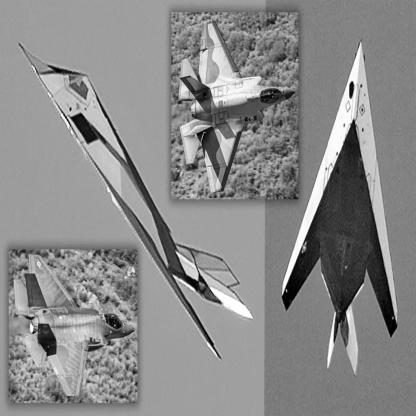F117: (19, 44, 254, 363), (282, 38, 399, 379)
F35: (179, 20, 296, 195), (14, 254, 136, 398)
